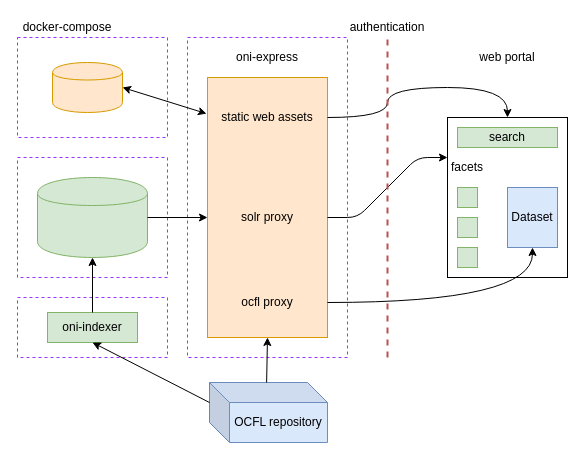
The diagram is 585 pixels wide and 460 high, and some of its shapes have lost their labels. Each missing label, with the centre of its shape:
"session db" goes at point (87, 87).
"solr index" goes at point (92, 217).
